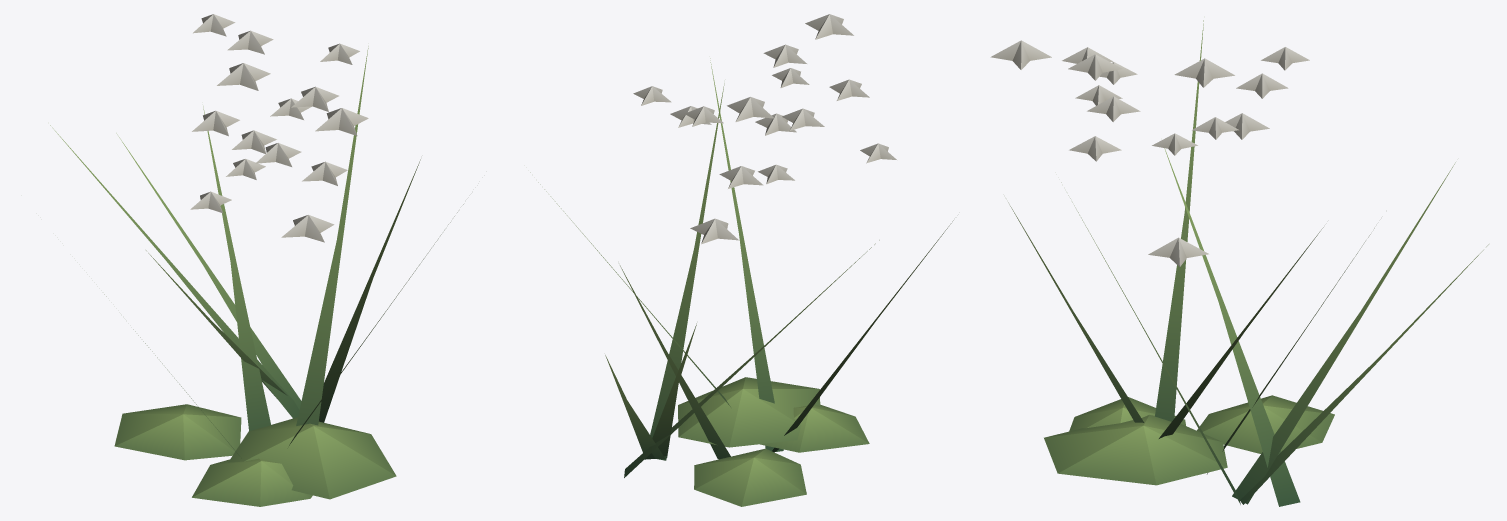
Rendered from env_flower_white_star_01.glb.
The picture shows the model from 3 angles, left to right: view 1: azimuth 30°, elevation 25°; view 2: azimuth 150°, elevation 25°; view 3: azimuth 270°, elevation 25°; orthographic projection. The views are drawn at different scales.
Parts seen in each view (by area): view 1: flower_white_star; view 2: flower_white_star; view 3: flower_white_star.
Part boxes in pixels (box(x1,y1,x2,y2)): flower_white_star: box(50, 14, 463, 506); flower_white_star: box(530, 14, 953, 506); flower_white_star: box(990, 20, 1488, 506).
Size of the model in its own units: 0.3635 by 0.3521 by 0.3807.
